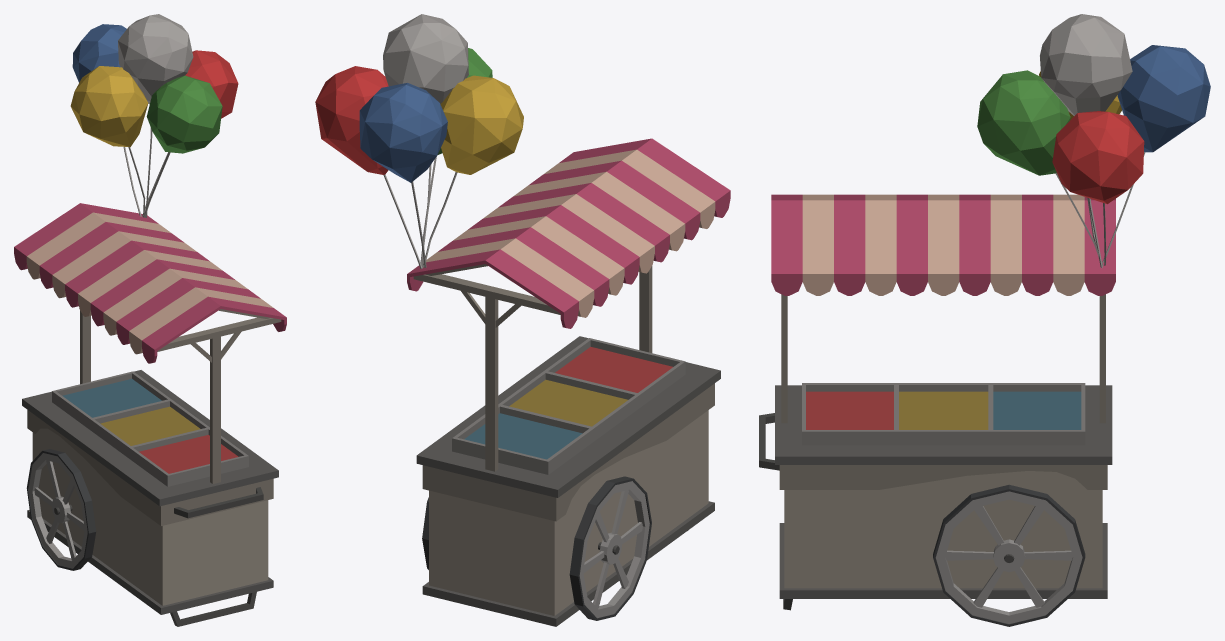
File: SM_Bldg_City_AmusementPark_Cart_01.fbx
3 views of the same model, side by side, from view 1: azimuth 30°, elevation 25°; view 2: azimuth 150°, elevation 25°; view 3: azimuth 270°, elevation 25° (orthographic). The views are drawn at different scales.
Parts seen in each view (by area): view 1: SM_Bldg_City_AmusementPark_Cart_01; view 2: SM_Bldg_City_AmusementPark_Cart_01; view 3: SM_Bldg_City_AmusementPark_Cart_01.
Part boxes in pixels (box(x1,y1,x2,y2)): SM_Bldg_City_AmusementPark_Cart_01: box(14, 14, 286, 626); SM_Bldg_City_AmusementPark_Cart_01: box(315, 14, 730, 626); SM_Bldg_City_AmusementPark_Cart_01: box(759, 14, 1210, 626).
Bounding box in the file's own units: 162 × 358 × 241.
